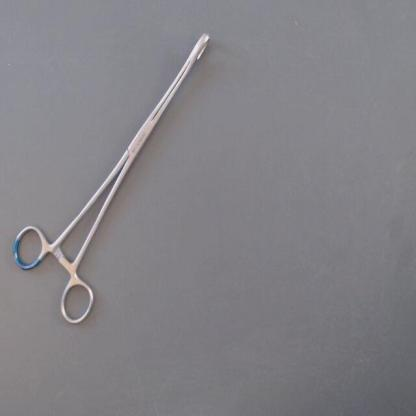Sponge Forceps: (6, 18, 220, 338)
